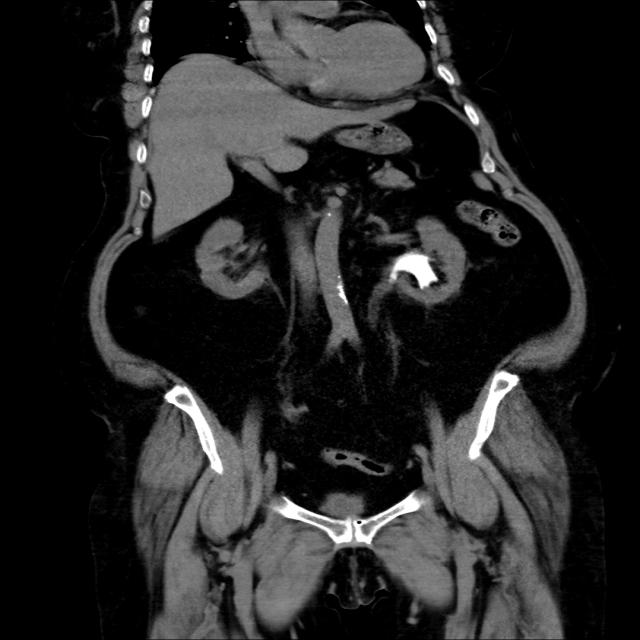kidneystone: (391, 254, 439, 288)
